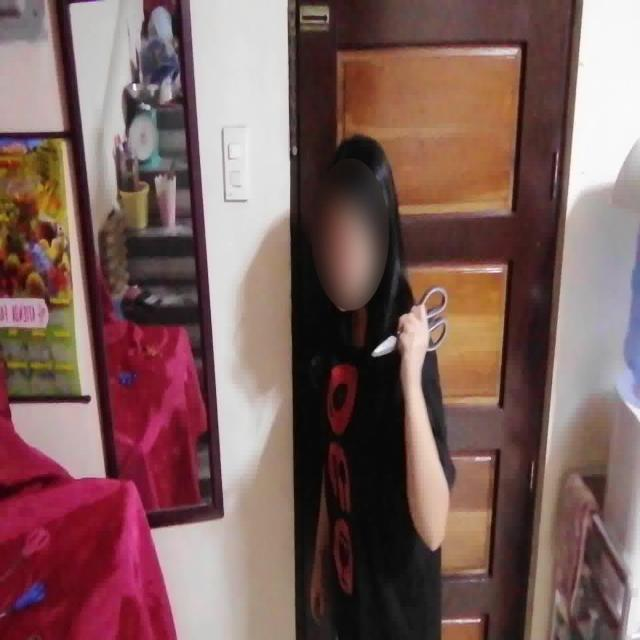scissor: (372, 282, 450, 358)
